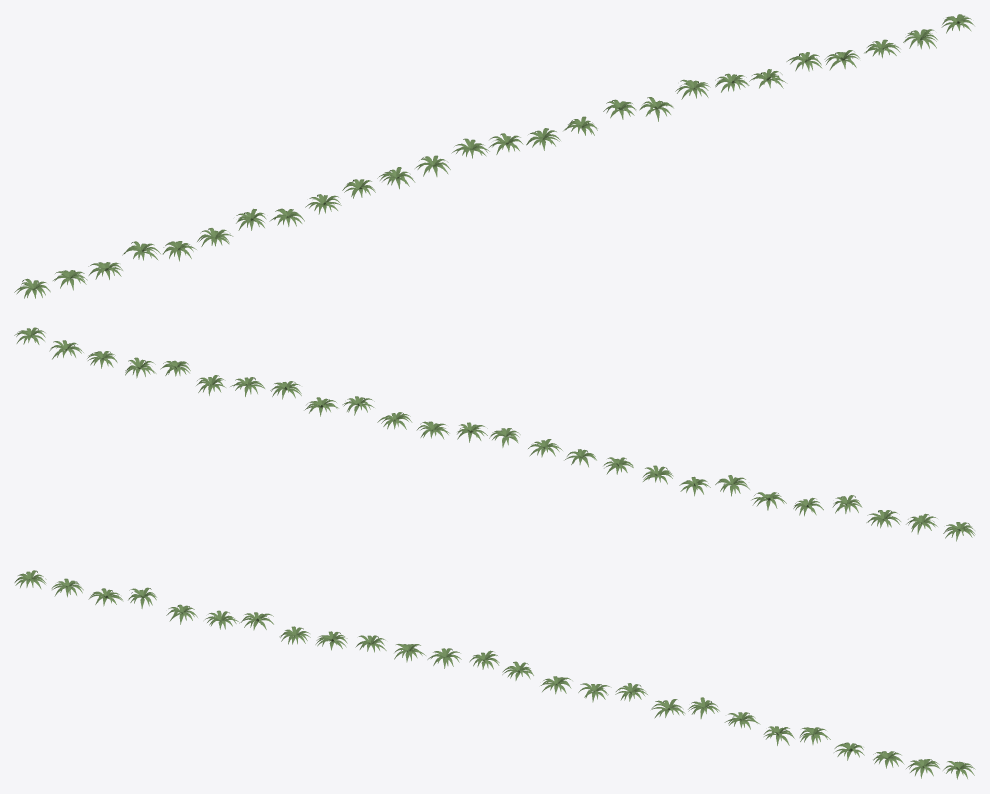
File: E1-7_palmeiras_folha.fbx
The picture shows the model from 3 angles, top to bottom: view 1: azimuth 30°, elevation 25°; view 2: azimuth 150°, elevation 25°; view 3: azimuth 330°, elevation 25°; orthographic projection. The views are drawn at different scales.
Visible parts, largest first — view 1: E1-7_palmeiras_folha; view 2: E1-7_palmeiras_folha; view 3: E1-7_palmeiras_folha.
Part boxes in pixels (box(x1,y1,x2,y2)): E1-7_palmeiras_folha: box(14, 14, 974, 298); E1-7_palmeiras_folha: box(14, 327, 975, 541); E1-7_palmeiras_folha: box(14, 570, 975, 779).
Size of the model in its own units: 310 by 7.38 by 31.26.
